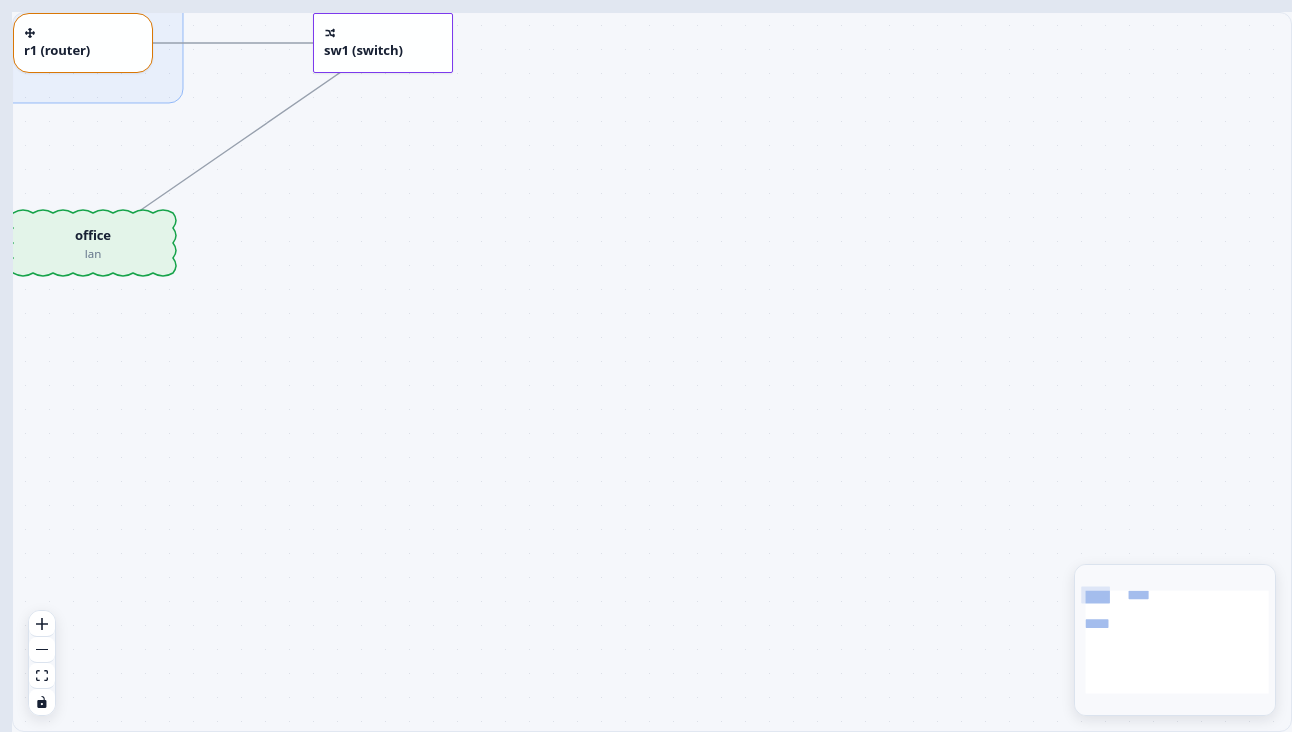
Scenario: TopologyCanvas › closes network info on Escape
Click the element with test id "rf__node-network:office". click: (93,243)
box: [13,213,173,273]
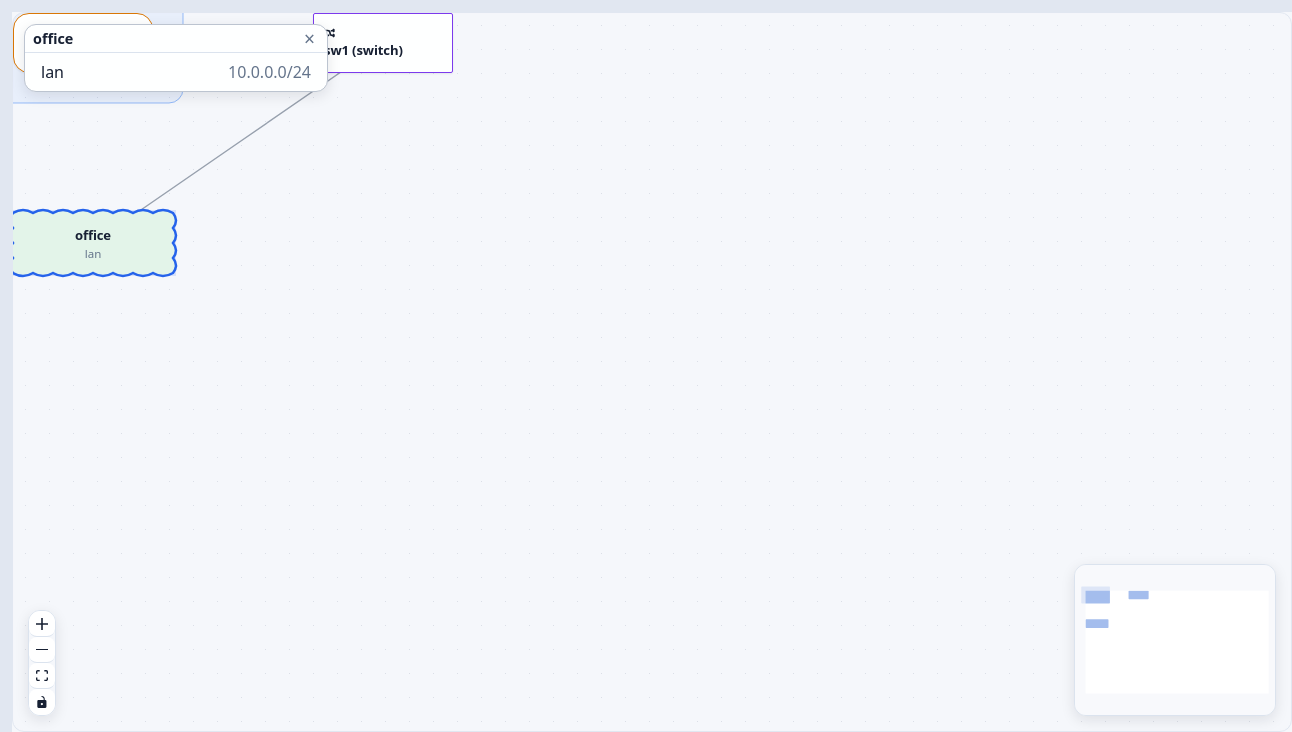
Press Escape
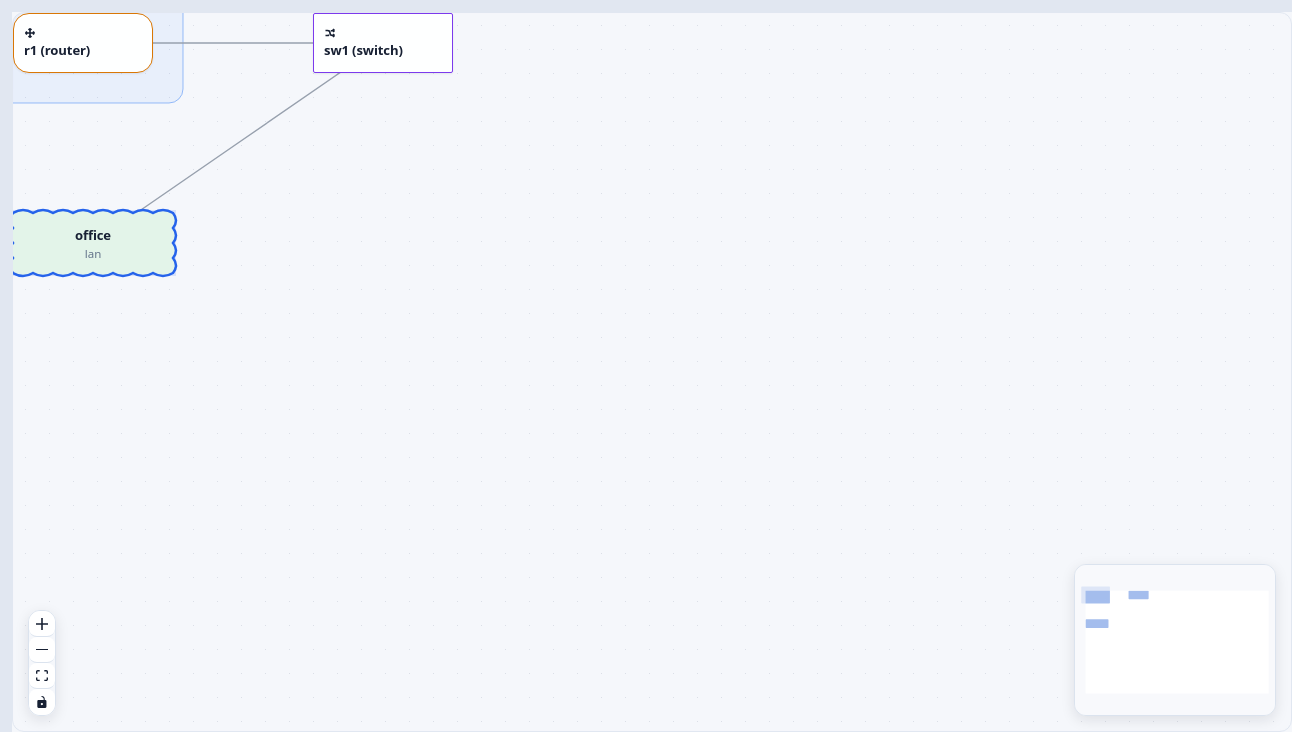
Expected: the element with test id "network-info" is gone
